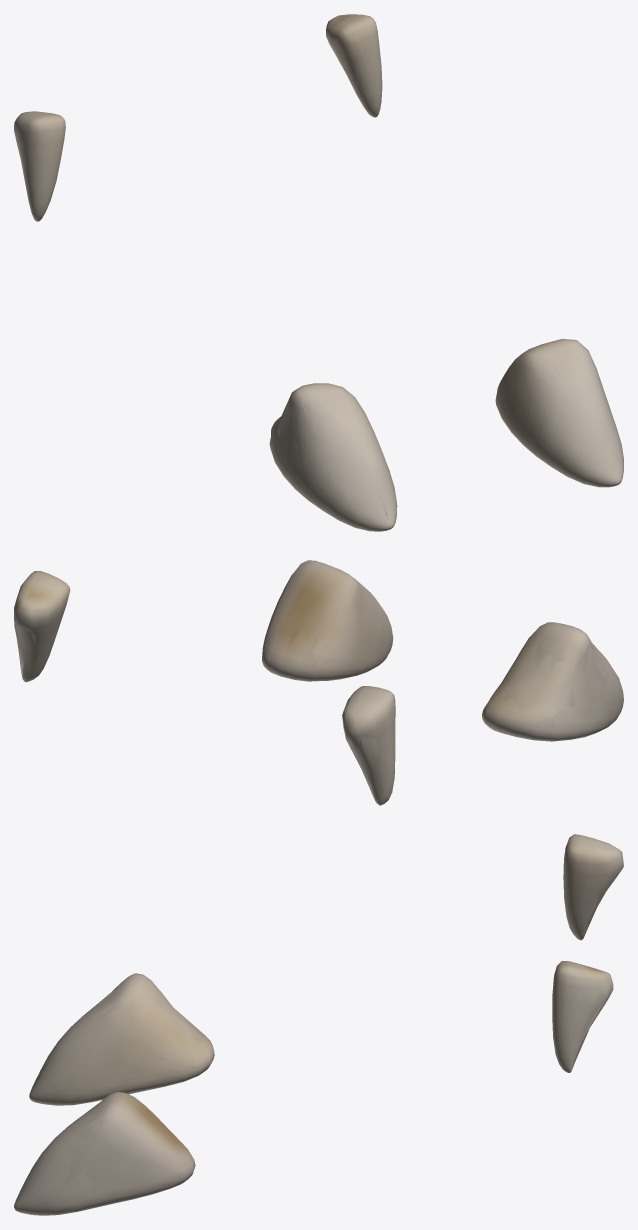
The model's file is BL 3rd Phalanx.fbx.
3 views of the same model, one above another, from view 1: azimuth 30°, elevation 25°; view 2: azimuth 150°, elevation 25°; view 3: azimuth 270°, elevation 25° (orthographic). The views are drawn at different scales.
Parts seen in each view (by area): view 1: BL 3rd Phalanx, BL 3rd Phalanx low; view 2: BL 3rd Phalanx, BL 3rd Phalanx low; view 3: BL 3rd Phalanx, BL 3rd Phalanx low.
Part boxes in pixels (x1,y1,x2,y2): BL 3rd Phalanx: (14, 14, 623, 531); BL 3rd Phalanx low: (16, 15, 623, 521); BL 3rd Phalanx: (14, 560, 623, 805); BL 3rd Phalanx low: (14, 562, 623, 800); BL 3rd Phalanx: (14, 834, 623, 1215); BL 3rd Phalanx low: (17, 849, 618, 1214).
Bounding box in the file's own units: 3.41 × 2.45 × 5.2.
